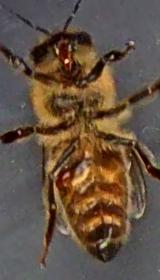varroa_mite: (48, 157, 74, 191)
